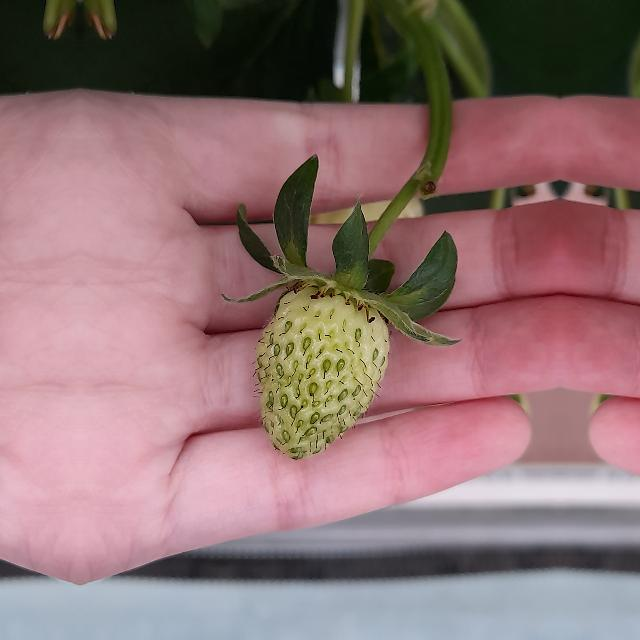Health_25: (256, 286, 388, 459)
